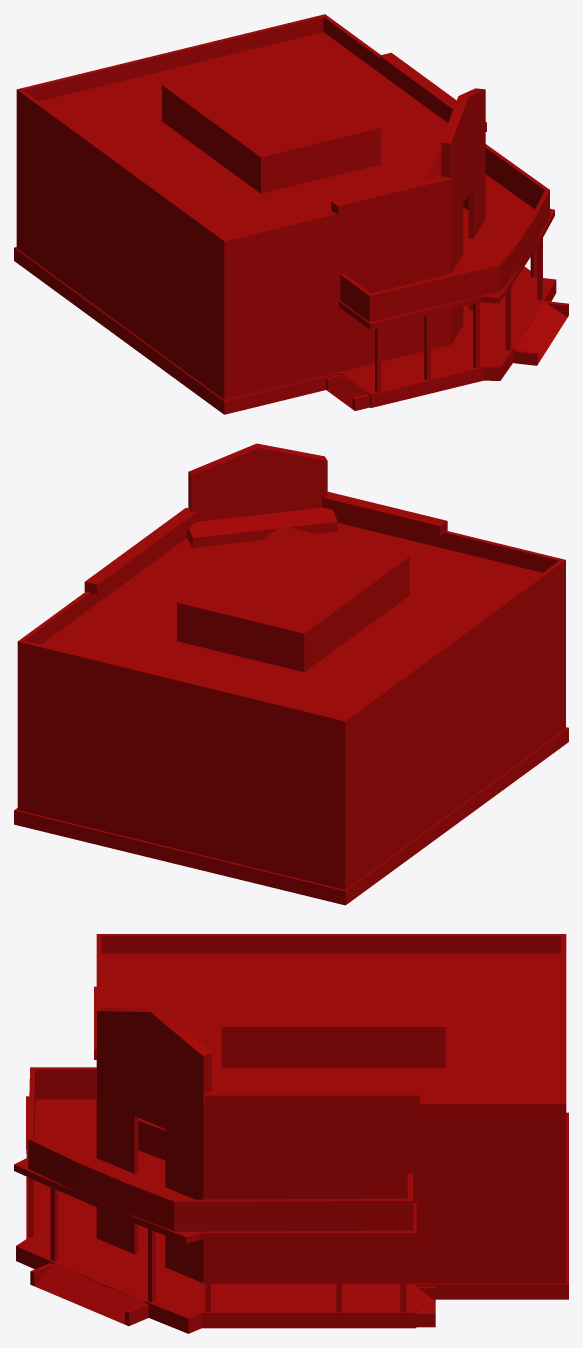
File: SM_Bld_Saloon_02_Collision.fbx
3 views of the same model, one above another, from view 1: azimuth 30°, elevation 25°; view 2: azimuth 150°, elevation 25°; view 3: azimuth 270°, elevation 25° (orthographic). The views are drawn at different scales.
Parts seen in each view (by area): view 1: SM_Bld_Saloon_01_Collision; view 2: SM_Bld_Saloon_01_Collision; view 3: SM_Bld_Saloon_01_Collision.
Part boxes in pixels (x1,y1,x2,y2): SM_Bld_Saloon_01_Collision: (14,14,568,414); SM_Bld_Saloon_01_Collision: (14,443,568,905); SM_Bld_Saloon_01_Collision: (14,934,568,1333).
Bounding box in the file's own units: 1665 × 994 × 1894.
